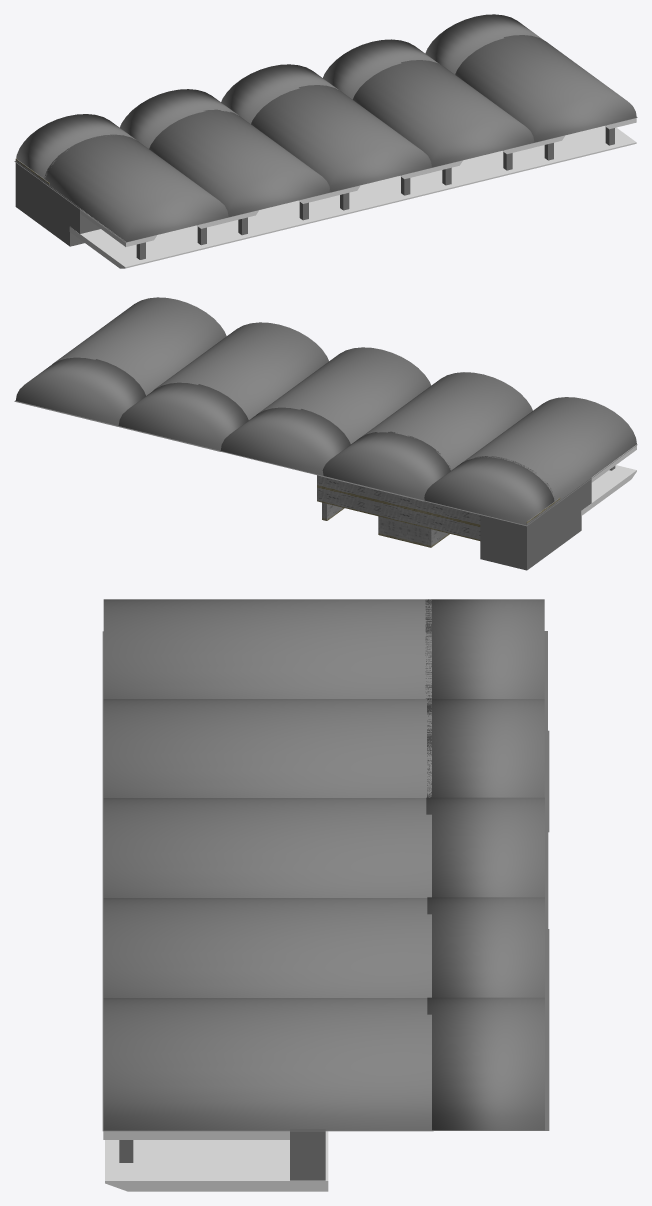
Rendered from GameObject.fbx.
3 views of the same model, one above another, from view 1: azimuth 30°, elevation 25°; view 2: azimuth 150°, elevation 25°; view 3: azimuth 270°, elevation 25° (orthographic). The views are drawn at different scales.
Parts seen in each view (by area): view 1: Cylinder_4, Cylinder, Cylinder_1, Cylinder_3, Cylinder_2, Cylinder__1__1, Cube_4, Cylinder__4_, Cylinder__1_, Cylinder__3_, Cylinder__2_, Cube__7_ (+6 smaller); view 2: Cylinder_4, Cylinder, Cylinder_1, Cylinder_3, Cylinder_2, Cylinder__1__1, Cylinder__4_, Cylinder__2_, Cylinder__3_, Cylinder__1_, Cube__7_, Cube__8_ (+2 smaller); view 3: Cylinder_1, Cylinder_4, Cylinder, Cylinder_2, Cylinder_3, Cylinder__4_, Cylinder__1__1, Cylinder__1_, Cylinder__3_, Cylinder__2_, Cube_1, Cube__2_ (+2 smaller).
Boxes of the visible parts, x1,y1,x2,y2 form: Cylinder_4: (44,134,228,242); Cylinder: (352,60,534,167); Cylinder_1: (455,35,636,142); Cylinder_3: (149,109,330,217); Cylinder_2: (251,85,431,192); Cylinder__1__1: (16,114,135,179); Cube_4: (69,225,228,268); Cylinder__4_: (425,14,543,74); Cylinder__1_: (120,89,238,148); Cylinder__3_: (221,64,338,123); Cylinder__2_: (323,39,438,99); Cube__7_: (15,161,84,246); Cylinder_4: (462,397,636,501); Cylinder: (153,322,328,419); Cylinder_1: (53,297,226,395); Cylinder_3: (361,372,532,470); Cylinder_2: (256,347,431,443); Cylinder__1__1: (424,456,554,525); Cylinder__4_: (15,357,145,425); Cylinder__2_: (118,382,248,450); Cylinder__3_: (220,407,350,475); Cylinder__1_: (322,431,450,500); Cube__7_: (480,484,581,570); Cube__8_: (317,475,560,540); Cylinder_1: (103,998,431,1130); Cylinder_4: (103,599,431,698); Cylinder: (103,898,431,997); Cylinder_2: (103,798,431,897); Cylinder_3: (103,699,431,797); Cylinder__4_: (427,997,544,1130); Cylinder__1__1: (425,599,544,698); Cylinder__1_: (427,699,544,797); Cylinder__3_: (426,797,544,897); Cylinder__2_: (427,897,544,997); Cube_1: (105,1131,328,1191); Cube__2_: (290,1129,325,1180).
Size of the model in its own units: 10078 by 1478 by 3803.
6 materials, 2 textured.
